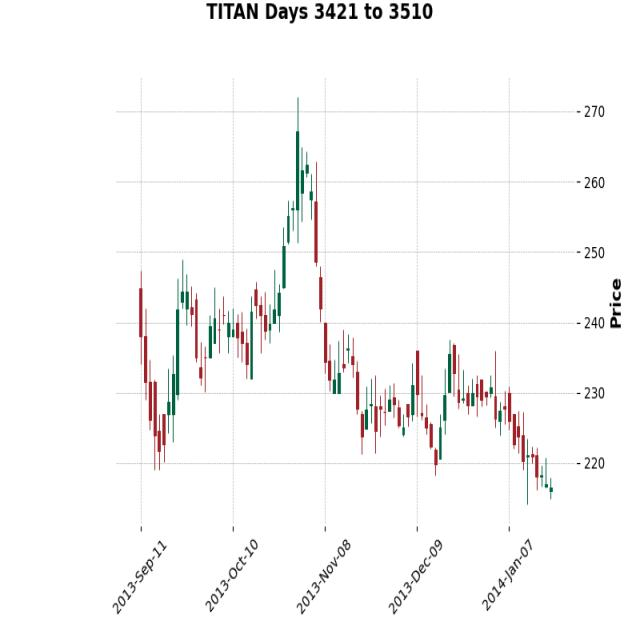Head and Shoulder: (163, 88, 424, 440)
